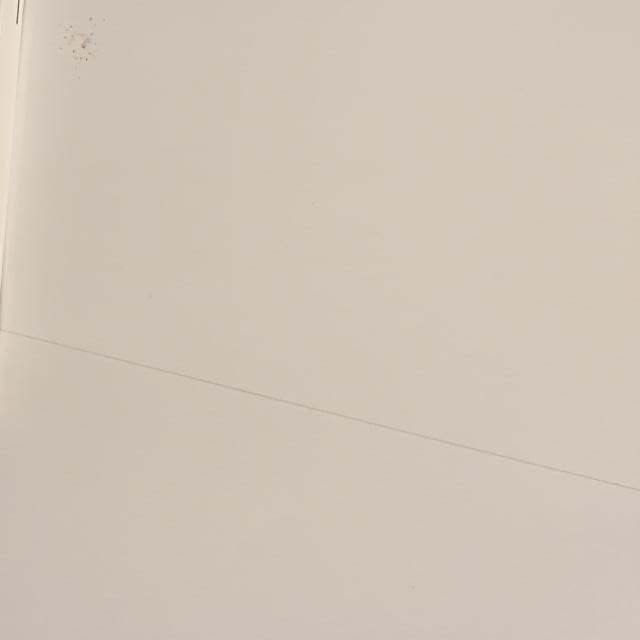fluorescent tube: (0, 0, 90, 440)
